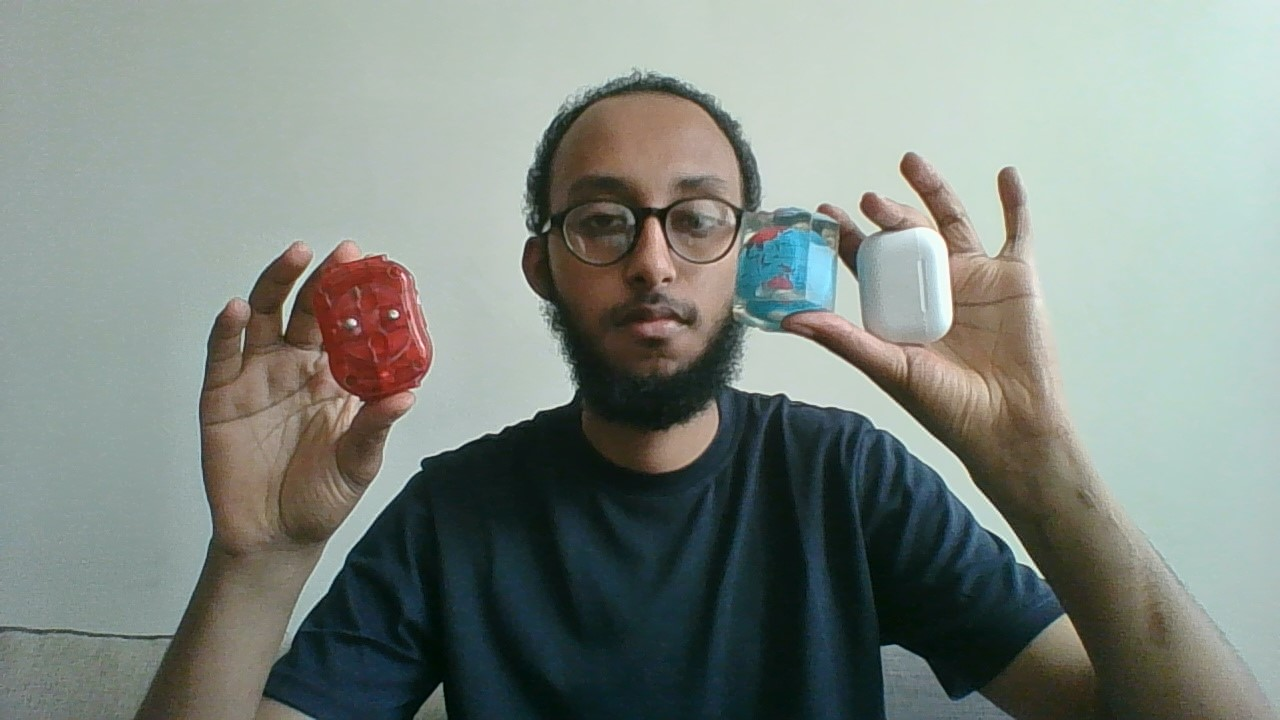Air_pod: (855, 225, 958, 349)
Multi_adapter: (311, 249, 438, 409)
world_globe: (727, 199, 848, 339)
